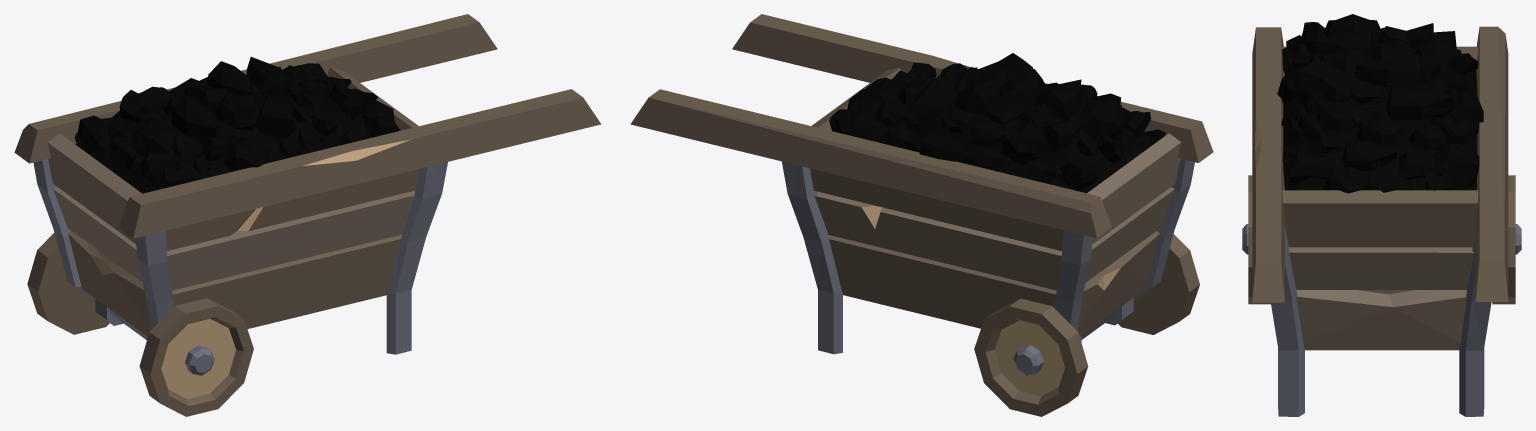
File: _wheelbarrow_coal.fbx
The picture shows the model from 3 angles, left to right: view 1: azimuth 30°, elevation 25°; view 2: azimuth 150°, elevation 25°; view 3: azimuth 270°, elevation 25°; orthographic projection. The views are drawn at different scales.
Parts seen in each view (by area): view 1: wheel_barrow_coal; view 2: wheel_barrow_coal; view 3: wheel_barrow_coal.
Part boxes in pixels (left/top/right/bottom): wheel_barrow_coal: left=14, top=14, right=601, bottom=416; wheel_barrow_coal: left=630, top=14, right=1213, bottom=416; wheel_barrow_coal: left=1242, top=14, right=1521, bottom=416.
Bounding box in the file's own units: 187 × 104 × 88.67.
